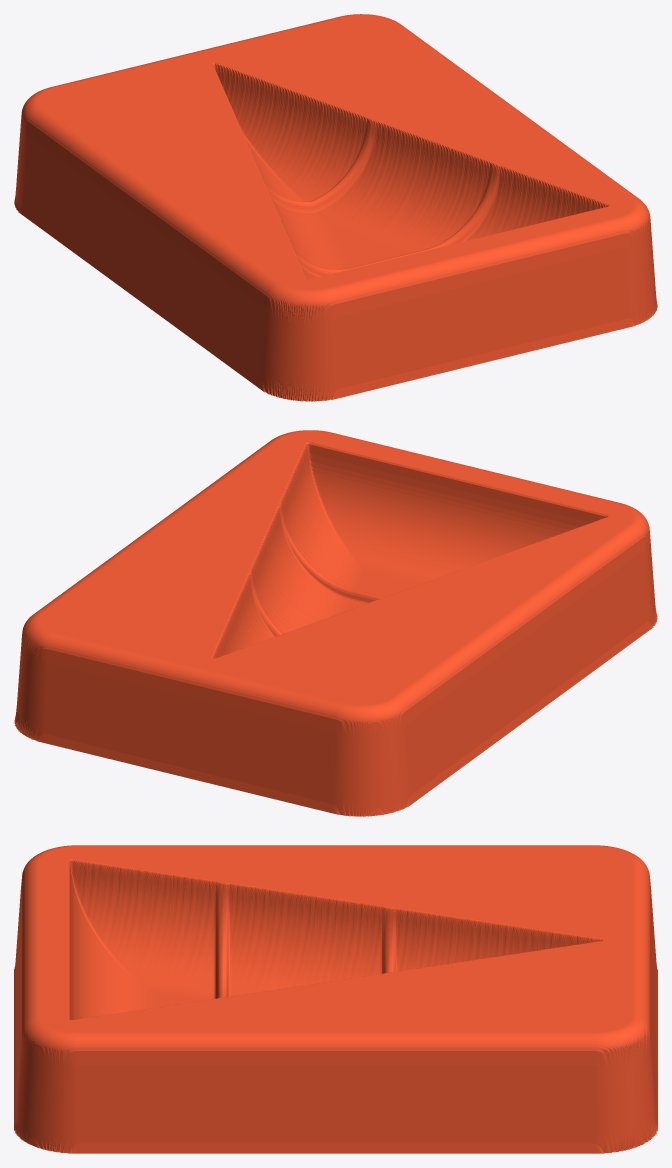
Rendered from mold.glb.
The picture shows the model from 3 angles, top to bottom: view 1: azimuth 30°, elevation 25°; view 2: azimuth 150°, elevation 25°; view 3: azimuth 270°, elevation 25°; orthographic projection. The views are drawn at different scales.
Parts seen in each view (by area): view 1: geometry_0; view 2: geometry_0; view 3: geometry_0.
Part boxes in pixels (x1,y1,x2,y2): geometry_0: (14, 14, 657, 401); geometry_0: (14, 430, 657, 816); geometry_0: (14, 845, 657, 1153).
Size of the model in its own units: 0.0702 by 0.0175 by 0.0924.
